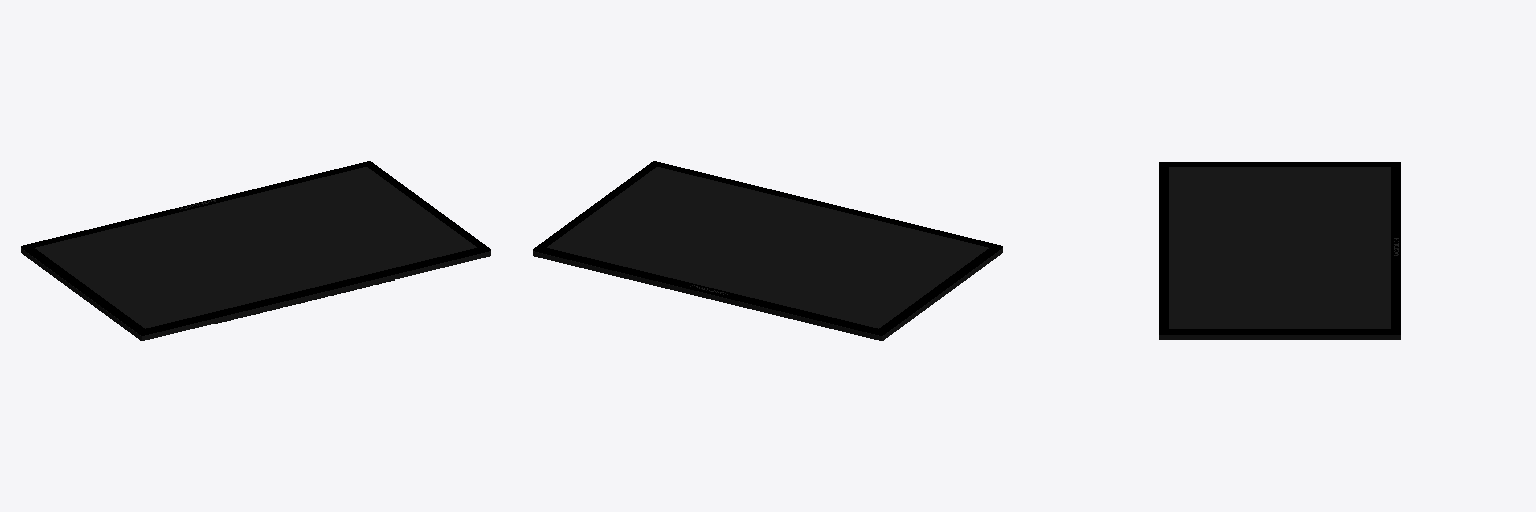
Rendered from flattv.obj.
3 views of the same model, side by side, from view 1: azimuth 30°, elevation 25°; view 2: azimuth 150°, elevation 25°; view 3: azimuth 270°, elevation 25° (orthographic).
Visible parts, largest first — view 1: LCD, Front_Bevel, Back; view 2: LCD, Front_Bevel, Back; view 3: LCD, Front_Bevel, Back.
Part boxes in pixels (x1,y1,x2,y2): LCD: (35,167,476,328); Front_Bevel: (21,161,490,335); Back: (21,248,490,340); LCD: (547,167,988,328); Front_Bevel: (533,161,1002,335); Back: (533,248,1002,340); LCD: (1169,167,1390,328); Front_Bevel: (1159,162,1400,334); Back: (1159,335,1400,339).
Bounding box in the file's own units: 5.78 × 0.2728 × 3.46.